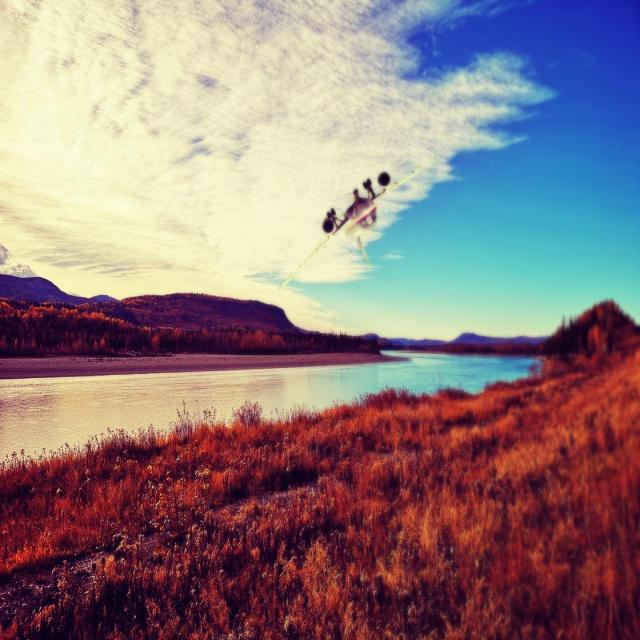airplane: (281, 165, 423, 292)
